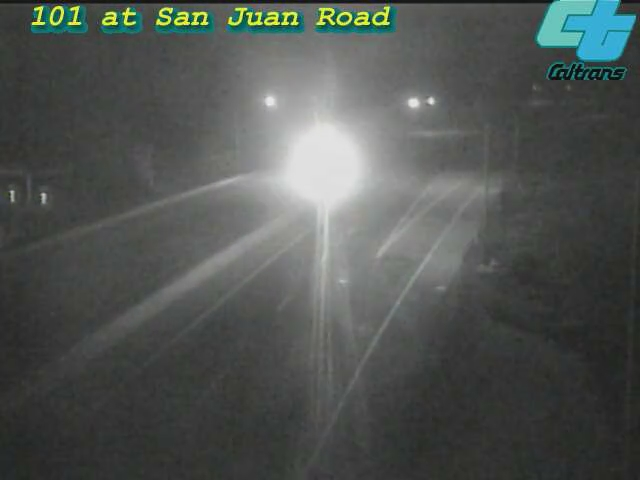vehicle: (277, 122, 357, 202)
